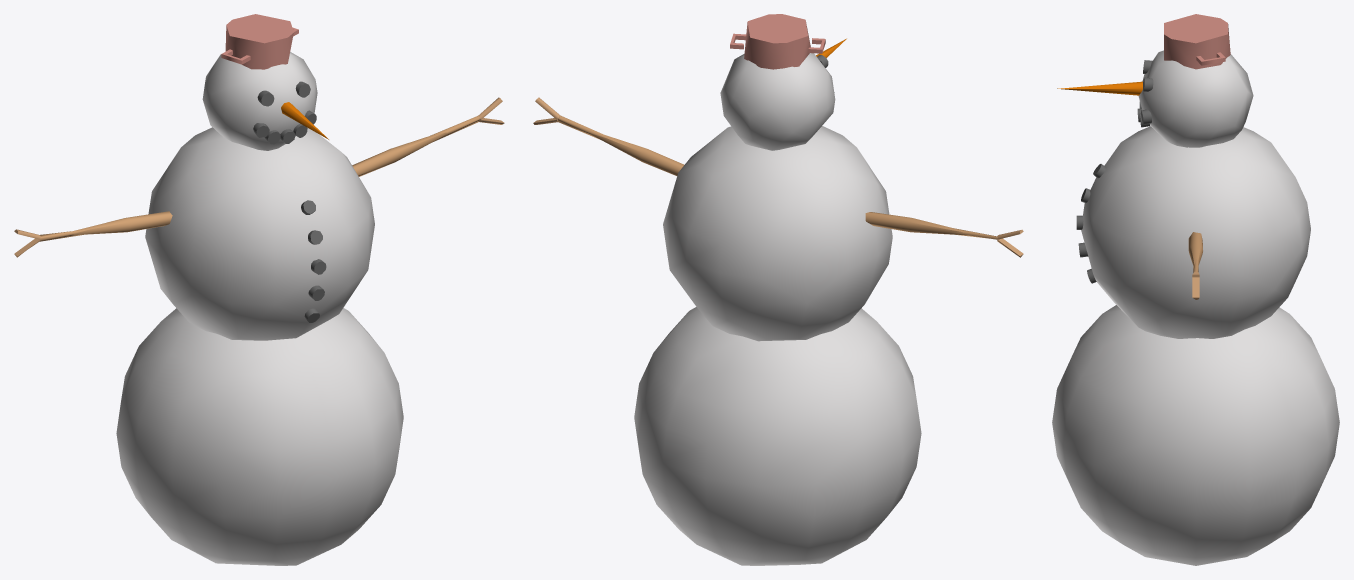
File: snehulak.glb
3 renders of one model, left to right at view 1: azimuth 30°, elevation 25°; view 2: azimuth 150°, elevation 25°; view 3: azimuth 270°, elevation 25°, orthographic.
Parts seen in each view (by area): view 1: snehulak; view 2: snehulak; view 3: snehulak.
Boxes of the visible parts, box(x1,y1,x2,y2) form: snehulak: box(14, 14, 504, 565); snehulak: box(533, 14, 1023, 565); snehulak: box(1052, 14, 1339, 565).
Bounding box in the file's own units: 1.94 × 2.01 × 1.
